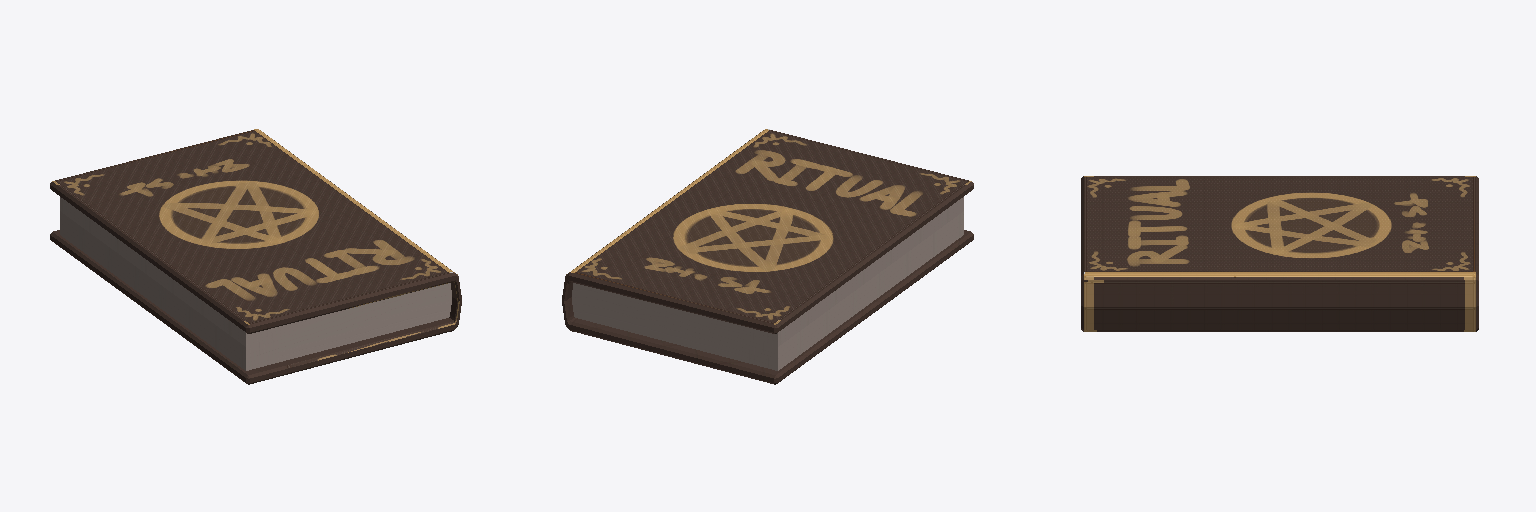
3 views of the same model, side by side, from view 1: azimuth 30°, elevation 25°; view 2: azimuth 150°, elevation 25°; view 3: azimuth 270°, elevation 25° (orthographic).
Visible parts, largest first — view 1: pCube8, pCube6; view 2: pCube8, pCube6; view 3: pCube8.
Part boxes in pixels (bbox=[...]): pCube8: bbox=[50, 129, 461, 384]; pCube6: bbox=[60, 197, 451, 370]; pCube8: bbox=[562, 129, 973, 384]; pCube6: bbox=[572, 197, 963, 370]; pCube8: bbox=[1081, 176, 1478, 331].
Size of the model in its own units: 2.54 by 0.7044 by 4.05.
Materials: 3 (1 with a texture image).